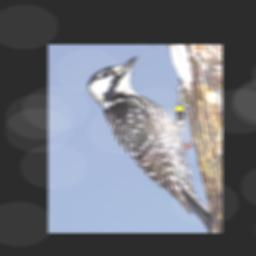Woodpecker: (85, 54, 215, 232)
